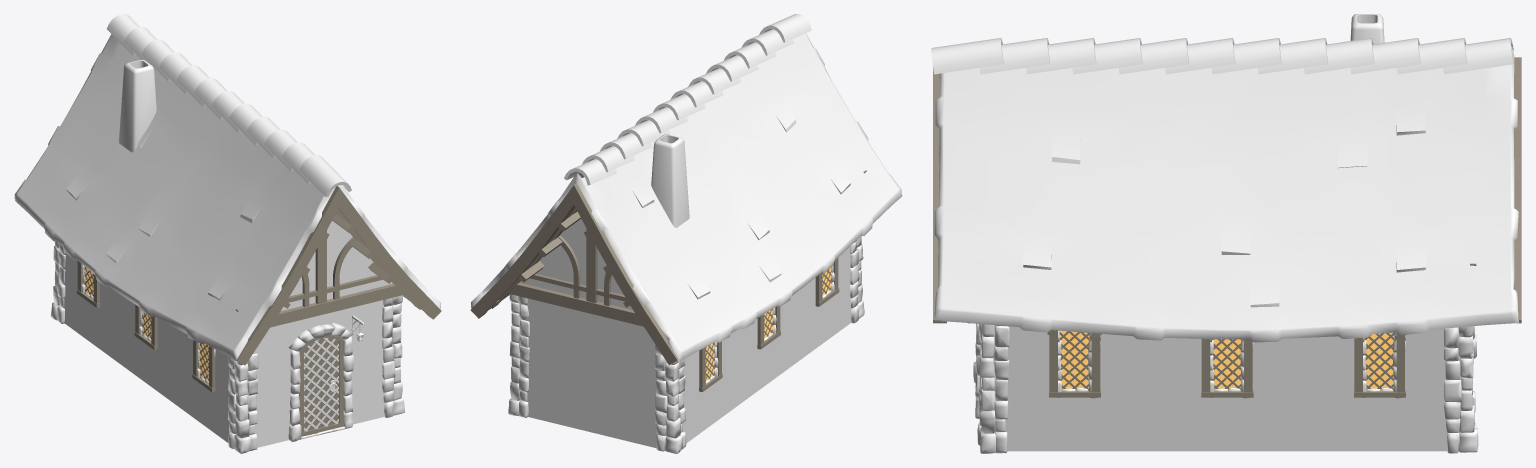
File: icemantle_stone_sanctuary.glb
3 views of the same model, side by side, from view 1: azimuth 30°, elevation 25°; view 2: azimuth 150°, elevation 25°; view 3: azimuth 270°, elevation 25° (orthographic). The views are drawn at different scales.
Visible parts, largest first — view 1: village/MI_FlatTiles, village/MI_UnevenBrick, village/MI_WoodTrim, village/MI_RockTrim, village/MI_RoundTiles, village/MI_WoodTrim_Wear, village/MI_MetalOrnaments, village/MI_WindowGlass; view 2: village/MI_FlatTiles, village/MI_UnevenBrick, village/MI_WoodTrim, village/MI_RoundTiles, village/MI_RockTrim, village/MI_WoodTrim_Wear, village/MI_WindowGlass; view 3: village/MI_FlatTiles, village/MI_UnevenBrick, village/MI_RoundTiles, village/MI_RockTrim, village/MI_WoodTrim, village/MI_WoodTrim_Wear, village/MI_WindowGlass.
Part boxes in pixels (box(x1,y1,x2,y2)): village/MI_FlatTiles: box(14, 34, 440, 360); village/MI_UnevenBrick: box(64, 59, 399, 447); village/MI_WoodTrim: box(14, 34, 441, 381); village/MI_RockTrim: box(50, 241, 405, 453); village/MI_RoundTiles: box(106, 14, 351, 197); village/MI_WoodTrim_Wear: box(77, 261, 343, 436); village/MI_MetalOrnaments: box(304, 338, 338, 431); village/MI_WindowGlass: box(84, 267, 208, 380); village/MI_FlatTiles: box(471, 33, 901, 361); village/MI_UnevenBrick: box(518, 134, 851, 448); village/MI_WoodTrim: box(470, 37, 902, 381); village/MI_RoundTiles: box(564, 14, 811, 185); village/MI_RockTrim: box(508, 236, 864, 453); village/MI_WoodTrim_Wear: box(699, 258, 839, 391); village/MI_WindowGlass: box(705, 268, 831, 380); village/MI_FlatTiles: box(934, 45, 1518, 342); village/MI_UnevenBrick: box(983, 14, 1470, 451); village/MI_RoundTiles: box(931, 38, 1513, 74); village/MI_RockTrim: box(973, 323, 1478, 453); village/MI_WoodTrim: box(933, 57, 1521, 390); village/MI_WoodTrim_Wear: box(1047, 330, 1406, 397); village/MI_WindowGlass: box(1058, 330, 1394, 390).
Size of the model in its own units: 5.75 by 6.53 by 9.68.
